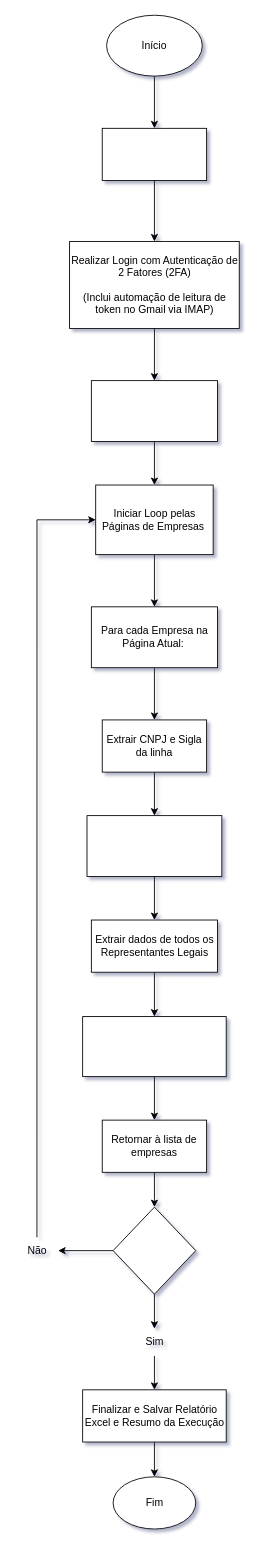
Image size: 259x1549. Some labels were removed from this diagram. The centre of each missing label's shape, as x and y in pixels:
Aceder à página de detalhes e navegar para "Contatos e Atribuições": point (154, 846)
Atualizar planilha Excel em tempo real com os novos dados: point (154, 1046)
inicializar WebDriver (Selenium) e Conectar ao Excel (xlwings): point (154, 154)
Navegar pelos menus até a lista de "Empresas Cadastradas": point (154, 411)
É a última página?: point (154, 1250)
